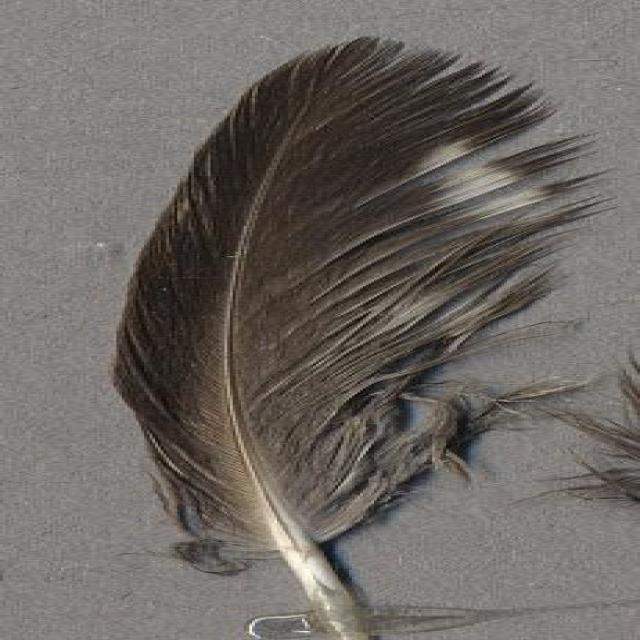feather: (103, 33, 640, 640)
